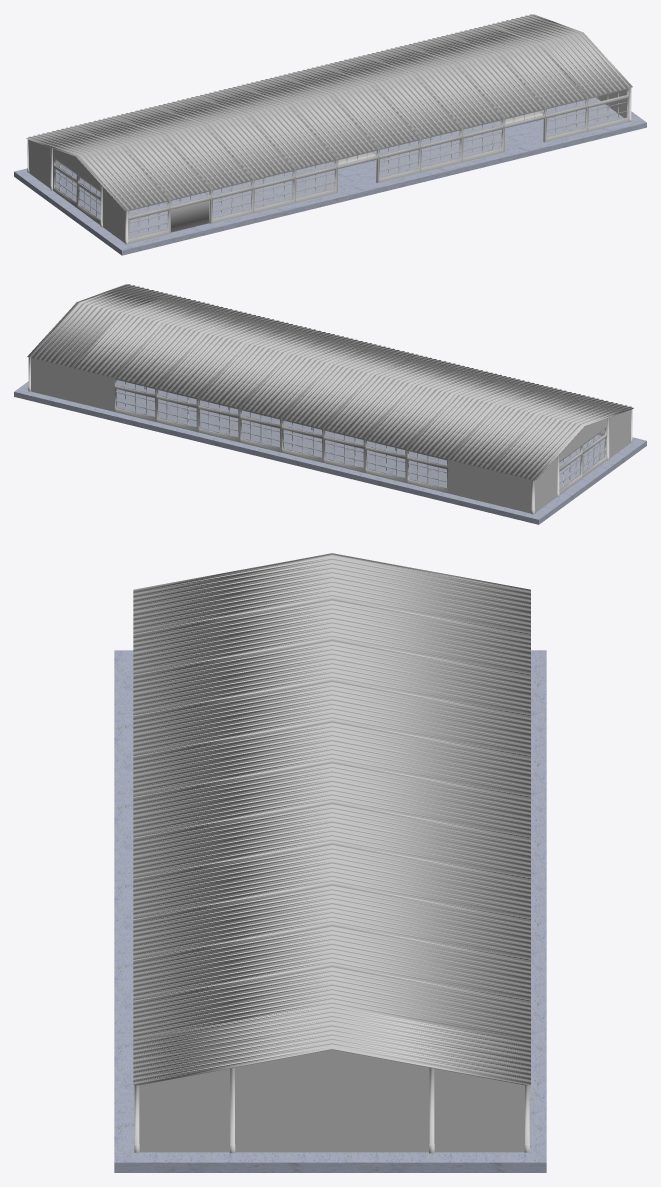
The model's file is wharehouse.dae.
3 renders of one model, top to bottom at view 1: azimuth 30°, elevation 25°; view 2: azimuth 150°, elevation 25°; view 3: azimuth 270°, elevation 25°, orthographic. The views are drawn at different scales.
Visible parts, largest first — view 1: Floor, roof_leftEnd, roof_rightEnd001, roof001, roof006, roof010, roof005, roof007, roof009, roof008, roof002, roof004 (+27 smaller); view 2: Floor, roof_leftEnd, roof_rightEnd001, roof005, roof004, roof010, roof006, roof009, roof001, roof003, roof007, roof002 (+28 smaller); view 3: Floor, roof_rightEnd001, roof_leftEnd, roof008, roof009, roof010, roof007, roof004, roof005, roof003, roof001, roof006 (+8 smaller).
Boxes of the visible parts, x1,y1,x2,y2 form: Floor: (14,97,646,255); roof_leftEnd: (26,126,169,210); roof_rightEnd001: (489,14,632,97); roof001: (71,116,211,199); roof006: (280,65,420,148); roof010: (447,24,587,107); roof005: (238,75,378,158); roof007: (322,55,462,138); roof009: (405,35,545,117); roof008: (364,45,503,128); roof002: (113,106,253,189); roof004: (197,86,336,168); Floor: (14,380,646,524); roof_leftEnd: (490,396,633,480); roof_rightEnd001: (27,284,170,367); roof005: (281,345,421,428); roof004: (323,355,463,438); roof010: (72,294,212,377); roof006: (239,335,379,418); roof009: (114,304,254,387); roof001: (448,386,588,469); roof003: (365,366,504,448); roof007: (197,325,337,408); roof002: (406,376,546,459); Floor: (114,650,546,1172); roof_rightEnd001: (133,1003,530,1085); roof_leftEnd: (133,553,530,632); roof008: (133,881,530,958); roof009: (133,922,530,999); roof010: (133,963,530,1039); roof007: (133,840,530,917); roof004: (133,718,530,795); roof005: (133,759,530,836); roof003: (133,677,530,754); roof001: (133,596,530,673); roof006: (133,800,530,876).
Size of the model in its own units: 96.13 by 34.27 by 10.17.
